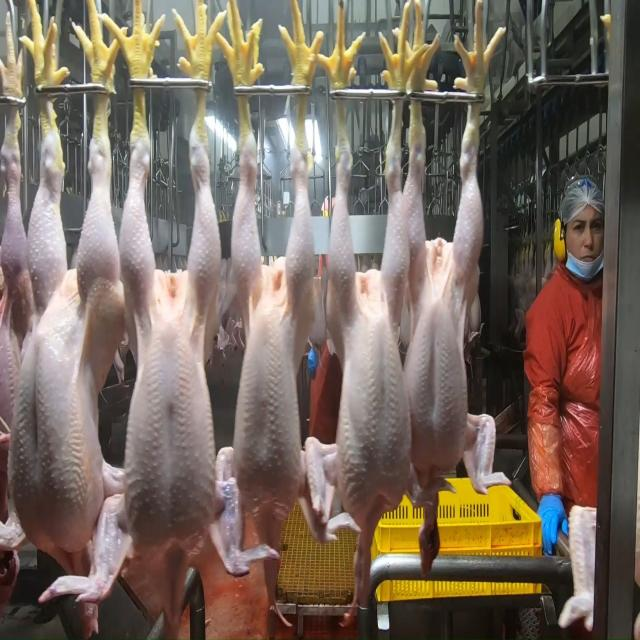chicken: (15, 134, 124, 584), (123, 119, 221, 566), (398, 110, 486, 502), (228, 143, 318, 521), (330, 128, 414, 510)
